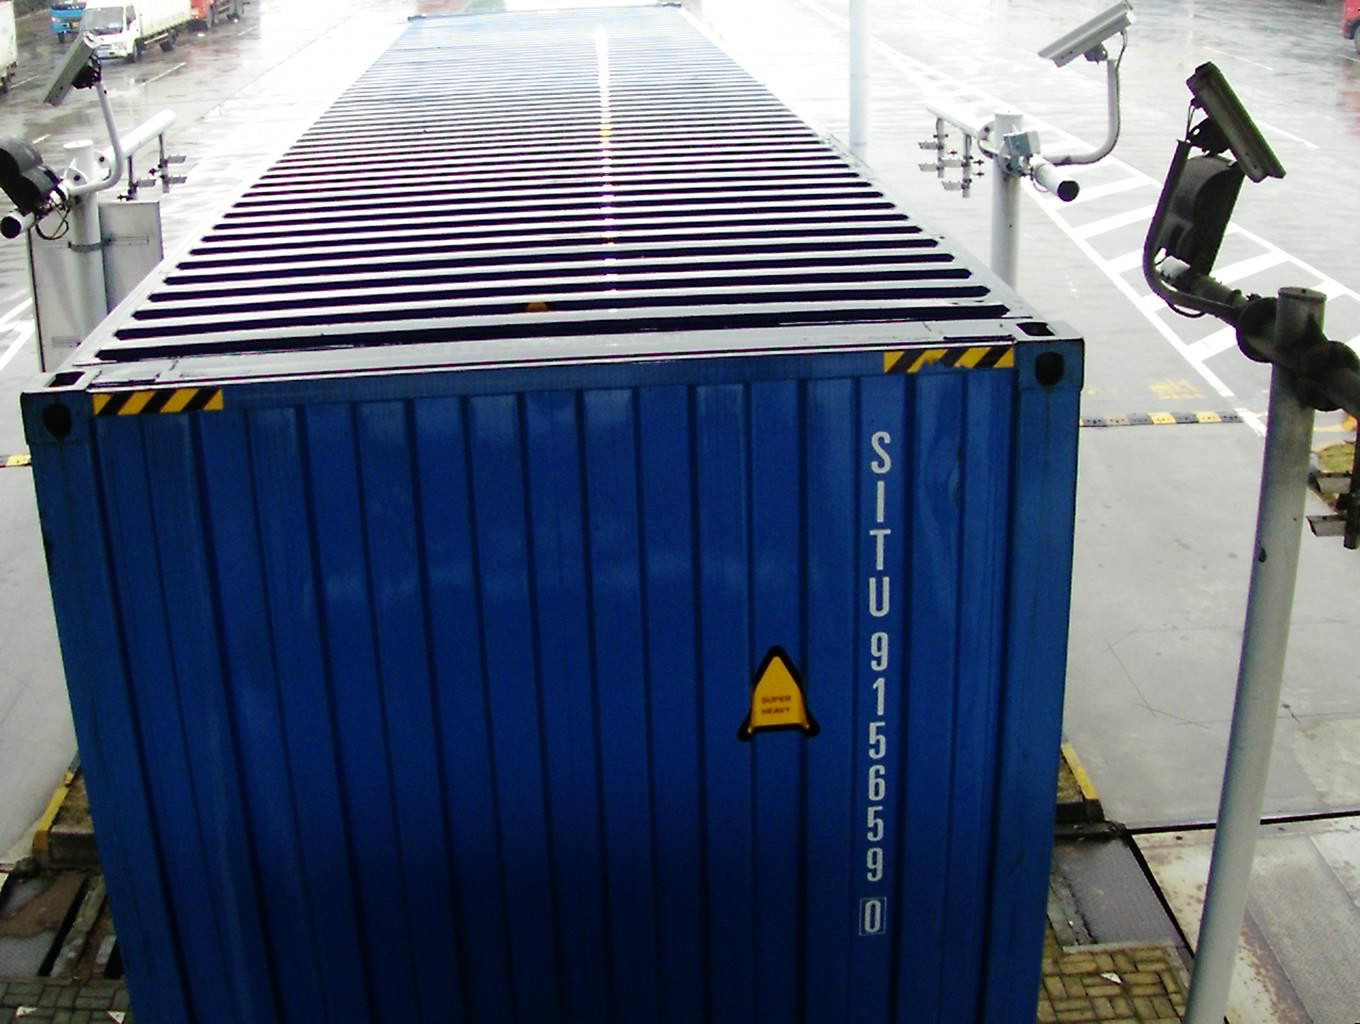words: (856, 424, 902, 940)
